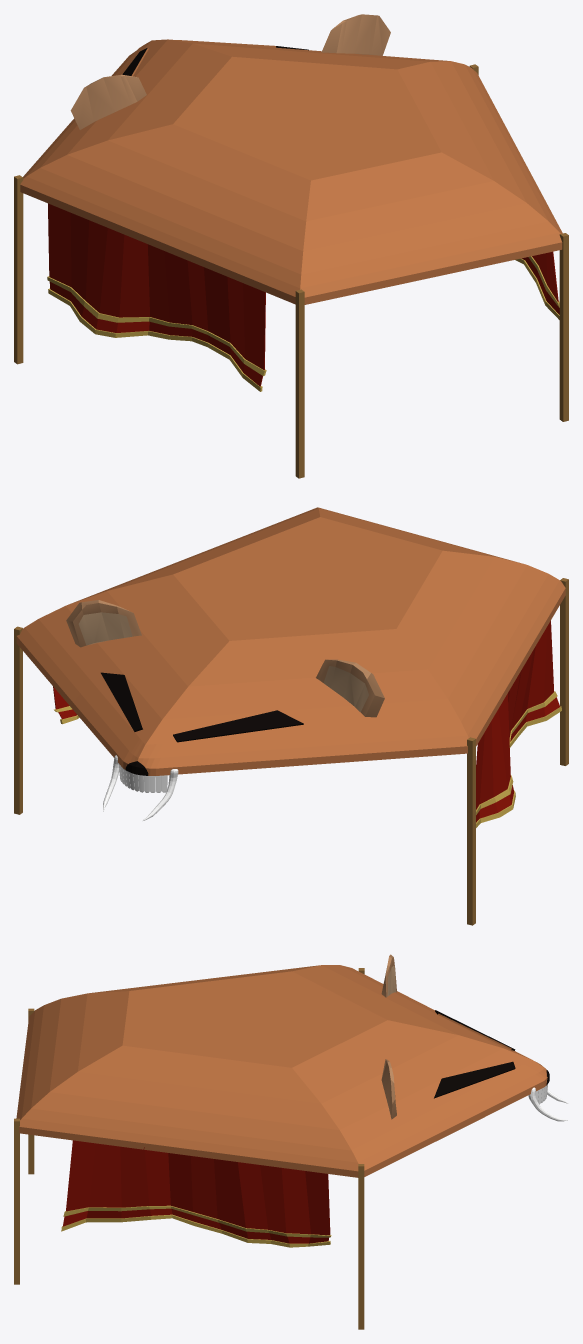
File: lv3huntCenter.glb
The picture shows the model from 3 angles, top to bottom: view 1: azimuth 30°, elevation 25°; view 2: azimuth 150°, elevation 25°; view 3: azimuth 270°, elevation 25°; orthographic projection. The views are drawn at different scales.
Visible parts, largest first — view 1: Plane.001, Plane, Cube.001, Plane.002; view 2: Plane.001, Plane, Cube.001, Plane.002, Cylinder; view 3: Plane.001, Plane, Cube.001, Plane.002, Cylinder.
Boxes of the visible parts, <box> form: Plane.001: <box>20,39,562,304</box>; Plane: <box>47,203,559,391</box>; Cube.001: <box>14,64,568,478</box>; Plane.002: <box>70,14,390,129</box>; Plane.001: <box>16,507,565,775</box>; Plane: <box>53,620,561,827</box>; Cube.001: <box>14,578,568,925</box>; Plane.002: <box>66,600,384,717</box>; Cylinder: <box>103,755,178,820</box>; Plane.001: <box>16,965,549,1177</box>; Plane: <box>61,1140,331,1247</box>; Cube.001: <box>14,968,364,1329</box>; Plane.002: <box>381,954,396,1119</box>; Cylinder: <box>528,1084,568,1121</box>.
Size of the model in its own units: 6.55 by 3.38 by 7.75.
